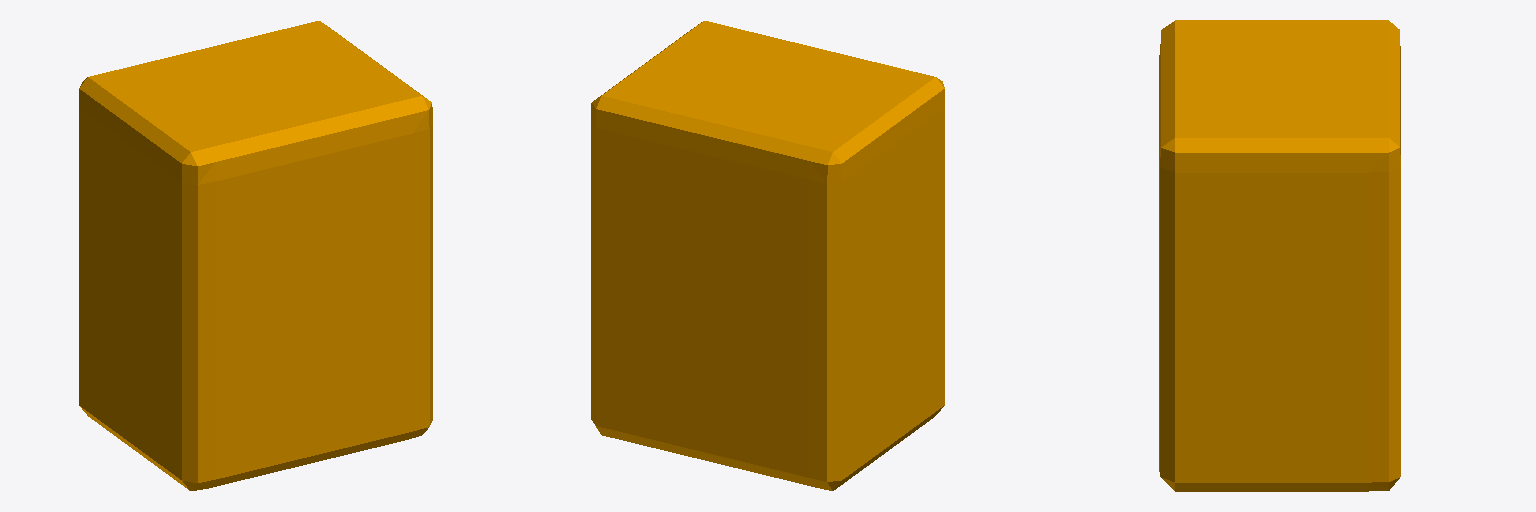
The robot description file, URDF, robot "cylinder_box_11":
<?xml version="1.0" encoding="utf-8"?>  <robot name="cylinder_box_11">   <link name="cylinder_box_11">     <visual>       <geometry>         <mesh filename="../meshes/box/box_11.stl" scale="1 1 1"/>       </geometry>     </visual>     <collision>       <geometry>         <mesh filename="../meshes/box/box_11.stl" scale="1 1 1"/>       </geometry>     </collision>     <inertial>        <origin         xyz="0 0 0"         rpy="0 0 0" />       <mass value="0.3605691234079463"/>       <origin rpy="0 0 0" xyz="0 0 0"/>       <inertia ixx="0.00034222548942144975" ixy="4.244694628363415e-08" ixz="7.675301933204201e-08" iyy="0.000395575294680605" iyz="-1.0136191909586286e-07" izz="0.00024211424435118906"/>     </inertial>   </link>  </robot>

--- Facts derived from the render (not from the file) ---
The picture shows the robot from 3 angles, left to right: view 1: azimuth 30°, elevation 25°; view 2: azimuth 150°, elevation 25°; view 3: azimuth 270°, elevation 25°; orthographic projection.
Model cylinder_box_11 with 1 links and 0 joints (none), rooted at cylinder_box_11, posed all joints at 0.
Links seen in each view (by area): view 1: cylinder_box_11; view 2: cylinder_box_11; view 3: cylinder_box_11.
Link boxes in pixels (x1,y1,x2,y2): cylinder_box_11: [79, 21, 432, 490]; cylinder_box_11: [591, 21, 944, 490]; cylinder_box_11: [1159, 20, 1400, 491].
Bounding box of the posed robot: 0.0706 × 0.0565 × 0.0915 m (x, y, z).
1 mesh visuals loaded from 1 distinct referenced files (1 binary STL).